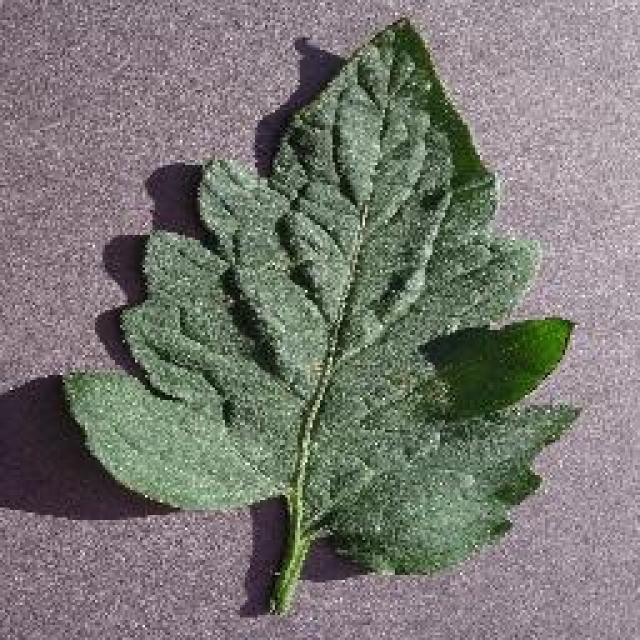Tomato Septoria spot leaf: (60, 16, 578, 574)
